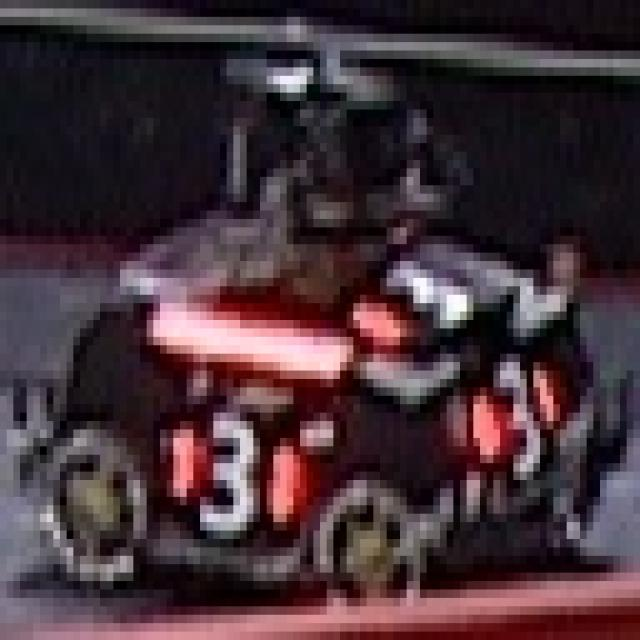R3: (160, 404, 300, 522), (473, 346, 560, 488)
